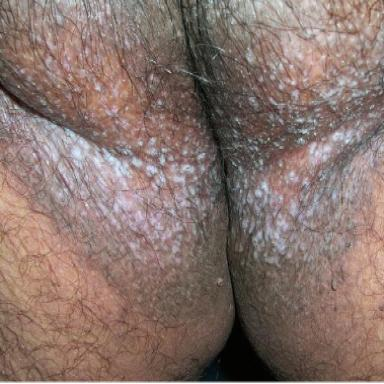Darier_s-Disease: (0, 1, 227, 314), (183, 1, 384, 300)
